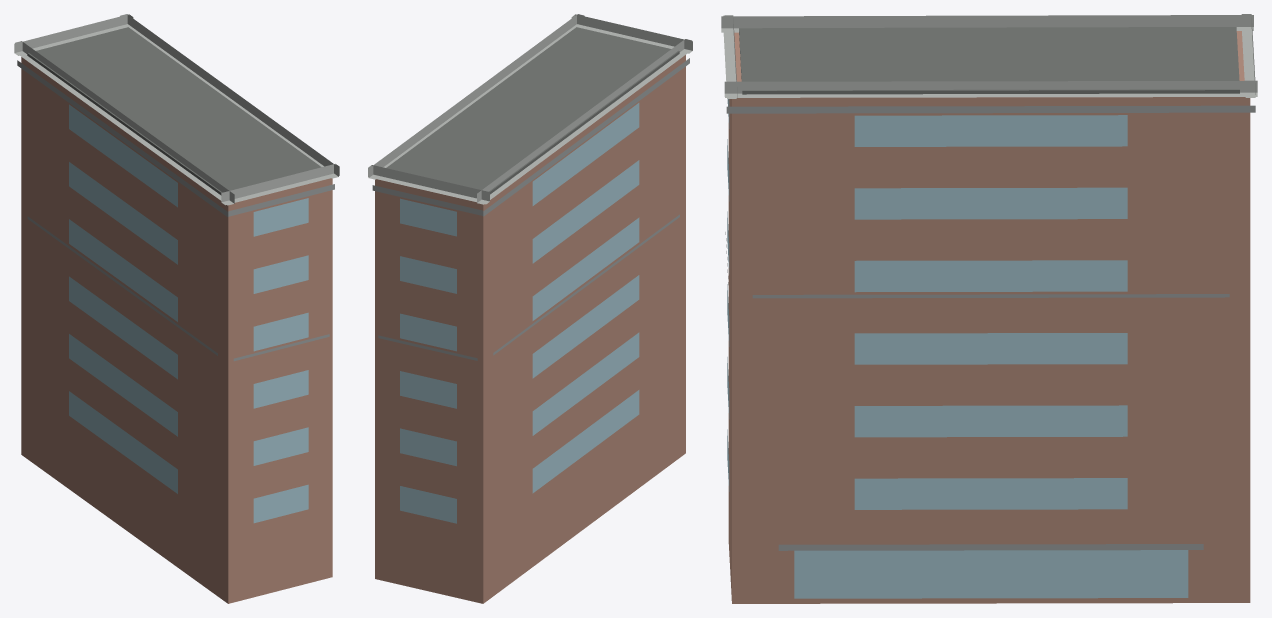
3 renders of one model, left to right at view 1: azimuth 30°, elevation 25°; view 2: azimuth 150°, elevation 25°; view 3: azimuth 270°, elevation 25°, orthographic. The views are drawn at different scales.
Visible parts, largest first — view 1: building-1782-mesh-0, building-1782-mesh-1, building-1782-mesh-3, building-1782-mesh-4, building-1782-mesh-2; view 2: building-1782-mesh-0, building-1782-mesh-1, building-1782-mesh-3, building-1782-mesh-4, building-1782-mesh-2; view 3: building-1782-mesh-0, building-1782-mesh-1, building-1782-mesh-3, building-1782-mesh-4, building-1782-mesh-2.
Boxes of the visible parts, x1=… form: building-1782-mesh-0: x1=21, y1=57, x2=332, y2=603; building-1782-mesh-1: x1=69, y1=104, x2=308, y2=523; building-1782-mesh-3: x1=27, y1=27, x2=321, y2=195; building-1782-mesh-4: x1=14, y1=14, x2=339, y2=205; building-1782-mesh-2: x1=17, y1=60, x2=334, y2=361; building-1782-mesh-0: x1=375, y1=55, x2=685, y2=603; building-1782-mesh-1: x1=400, y1=103, x2=639, y2=523; building-1782-mesh-3: x1=386, y1=27, x2=679, y2=194; building-1782-mesh-4: x1=368, y1=14, x2=692, y2=204; building-1782-mesh-2: x1=372, y1=58, x2=689, y2=360; building-1782-mesh-0: x1=728, y1=31, x2=1250, y2=603; building-1782-mesh-1: x1=727, y1=99, x2=1188, y2=598; building-1782-mesh-3: x1=739, y1=27, x2=1239, y2=94; building-1782-mesh-4: x1=721, y1=14, x2=1257, y2=98; building-1782-mesh-2: x1=725, y1=99, x2=1255, y2=550.
Bounding box in the file's own units: 7.22 × 24 × 22.43.
